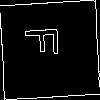F: (24, 24, 68, 57)
